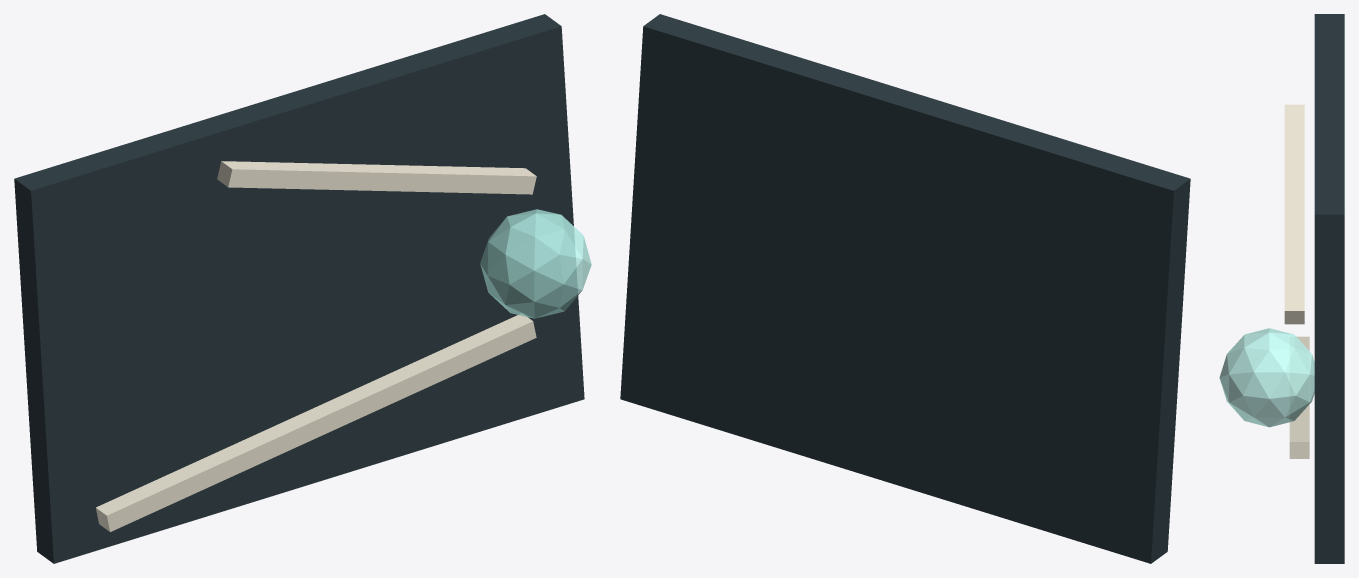
File: 02_world_prop_polish.glb
The picture shows the model from 3 angles, left to right: view 1: azimuth 30°, elevation 25°; view 2: azimuth 150°, elevation 25°; view 3: azimuth 270°, elevation 25°; orthographic projection. The views are drawn at different scales.
Parts seen in each view (by area): view 1: object_overlay_plate, edge_wear_a, glow_socket, edge_wear_b; view 2: object_overlay_plate; view 3: object_overlay_plate, glow_socket, edge_wear_b, edge_wear_a.
Part boxes in pixels (x1=…): object_overlay_plate: x1=14, y1=14, x2=584, y2=563; edge_wear_a: x1=96, y1=314, x2=536, y2=531; glow_socket: x1=480, y1=209, x2=591, y2=318; edge_wear_b: x1=217, y1=161, x2=536, y2=194; object_overlay_plate: x1=620, y1=14, x2=1190, y2=563; object_overlay_plate: x1=1314, y1=14, x2=1344, y2=563; glow_socket: x1=1219, y1=328, x2=1314, y2=427; edge_wear_b: x1=1284, y1=104, x2=1304, y2=324; edge_wear_a: x1=1289, y1=336, x2=1309, y2=458.
Size of the model in its own units: 1.15 by 0.8181 by 0.25.
